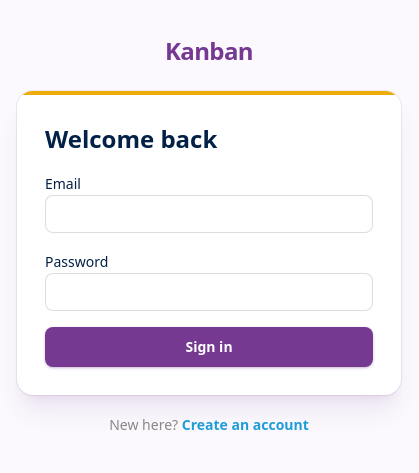
it: AuthForm › shows the server error and lets the user retry
The width and height of the screenshot is (419, 473).
Type "a@example.com" into the field labelled "Email" at (209, 214), box top-left (45, 195), bottom-right (373, 233)
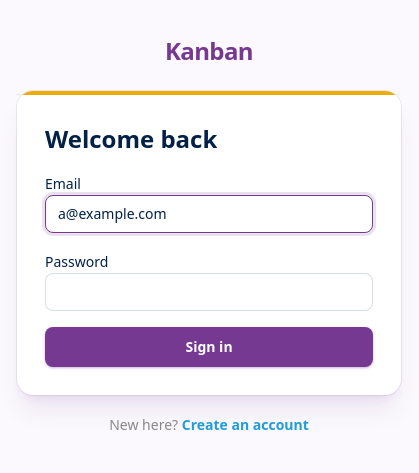
Type "wrong" into the password field labelled "Password" at (209, 292), box top-left (45, 273), bottom-right (373, 311)
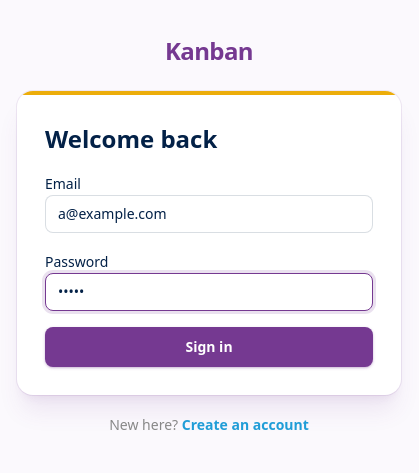
Click the button "Sign in" at (209, 347), box top-left (45, 327), bottom-right (373, 367)
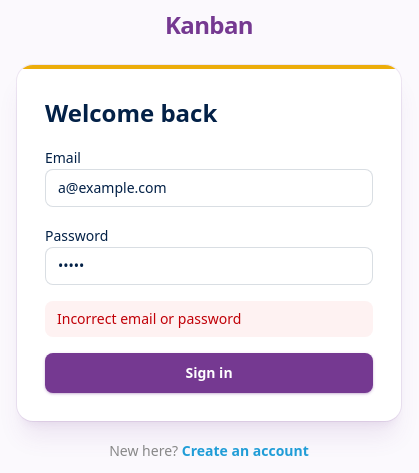
Expected: the button "Sign in" is enabled, top-left (45, 353), bottom-right (373, 393)
Expected: the message reads "Incorrect email or password", top-left (57, 309), bottom-right (241, 328)
